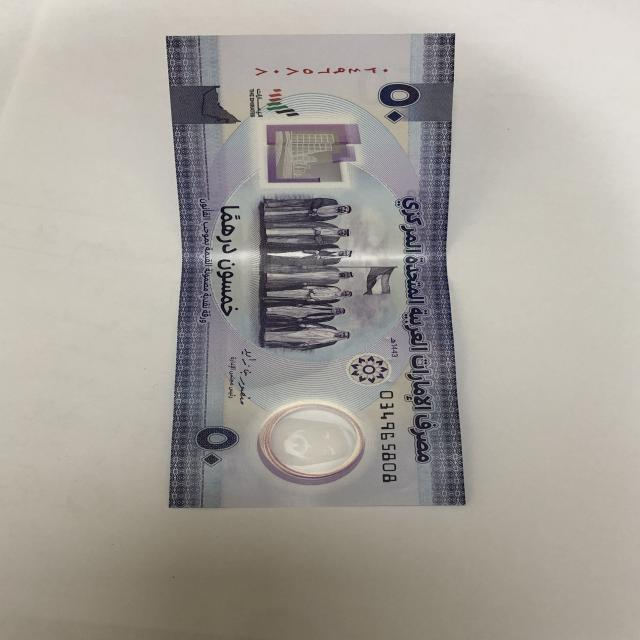50_AED: (159, 31, 475, 518)
